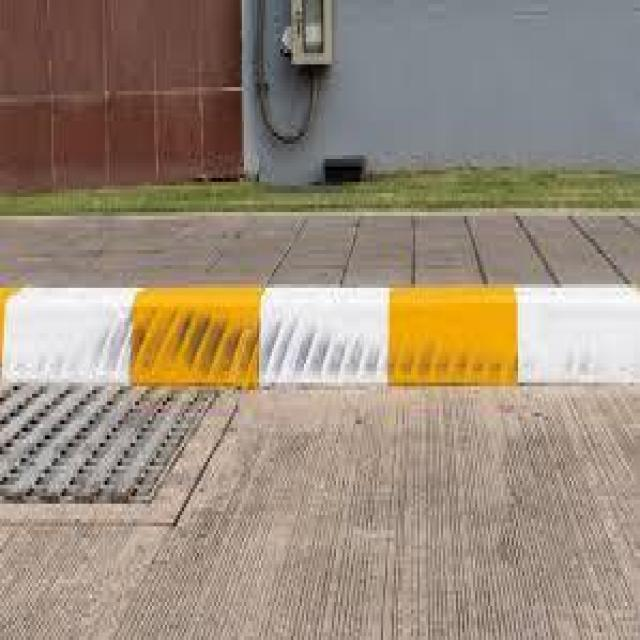curb: (1, 293, 640, 390)
